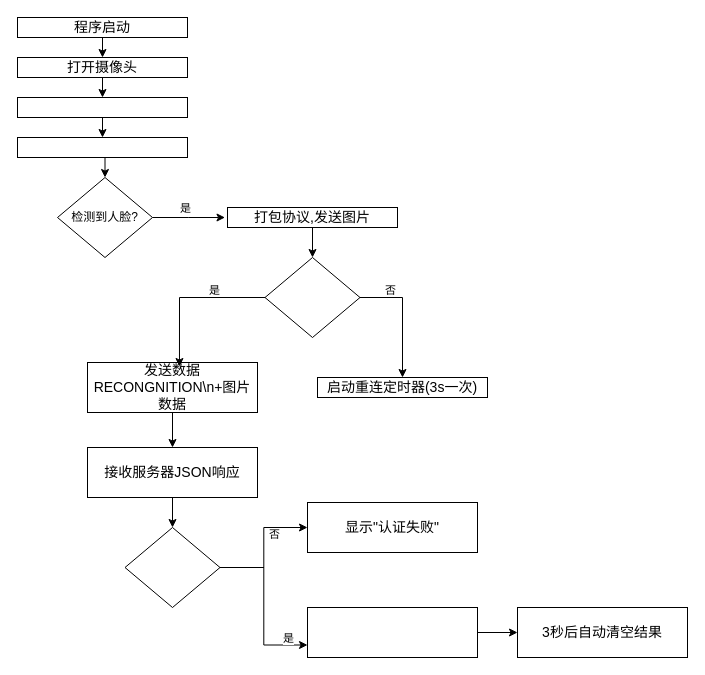
Image size: 705x675. Some labels were removed from this diagram. Here are the shapes that lost their labels. From the top down, the centre of each, then its label:
(102,107): 启动定时器
(102,147): 采集视频帧
(312,297): Socket连接?
(172,567): 解析JSON结果
(392,632): 显示员工的姓名,部门,职位
